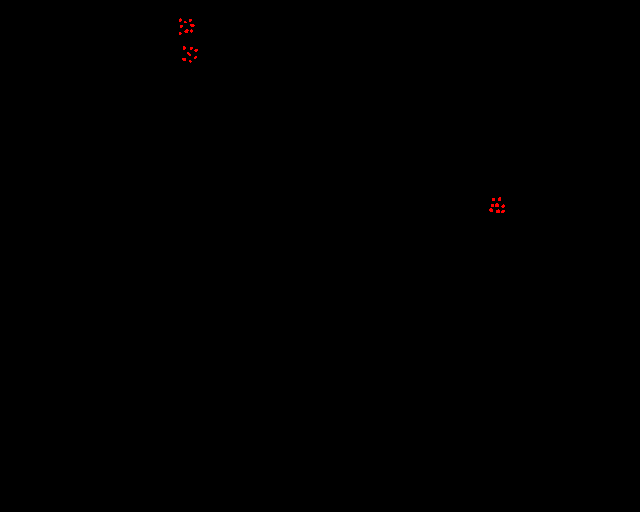Target: (184, 29, 189, 33), (187, 52, 191, 56), (495, 203, 499, 207), (501, 204, 505, 208), (489, 208, 493, 212), (496, 209, 500, 213), (190, 24, 195, 27), (179, 18, 182, 22), (190, 29, 193, 33), (183, 46, 186, 50), (194, 49, 198, 52), (182, 58, 186, 61), (498, 197, 501, 201), (501, 210, 505, 213), (189, 19, 192, 22), (180, 25, 183, 28), (179, 32, 182, 35), (190, 47, 193, 50), (194, 56, 197, 59), (189, 60, 192, 63), (492, 198, 495, 201), (491, 204, 494, 207), (184, 21, 187, 23)
